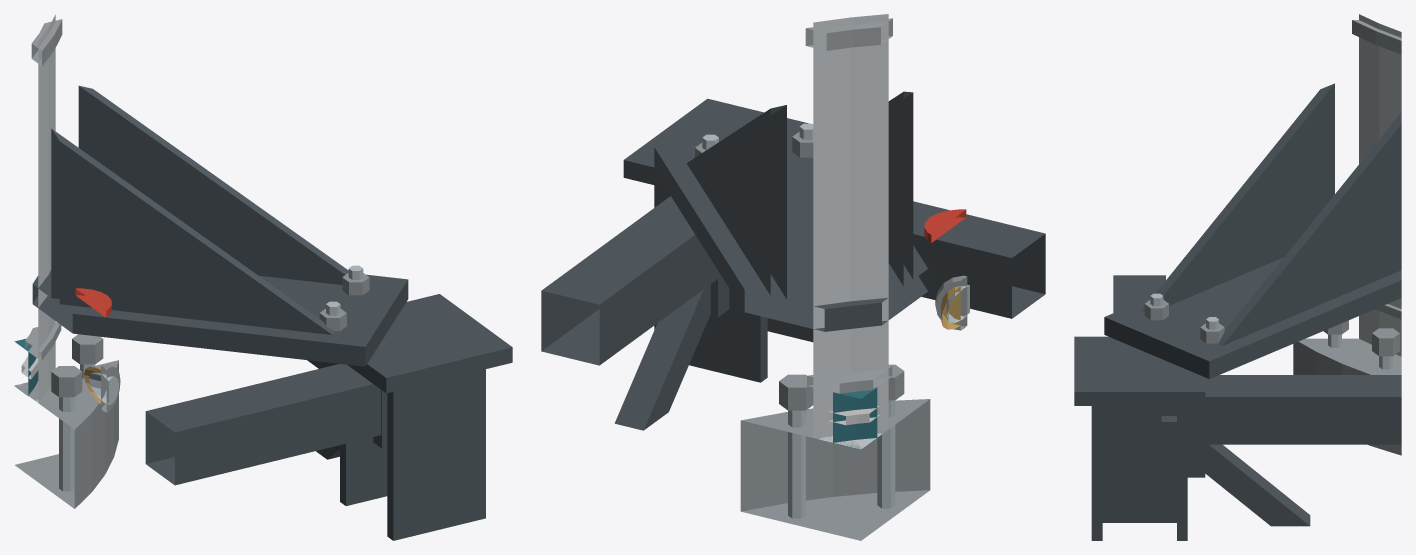
The model's file is cell_26.obj.
3 renders of one model, left to right at view 1: azimuth 30°, elevation 25°; view 2: azimuth 150°, elevation 25°; view 3: azimuth 270°, elevation 25°, orthographic. The views are drawn at different scales.
Bounding box in the file's own units: 0.75 × 1 × 0.75.
